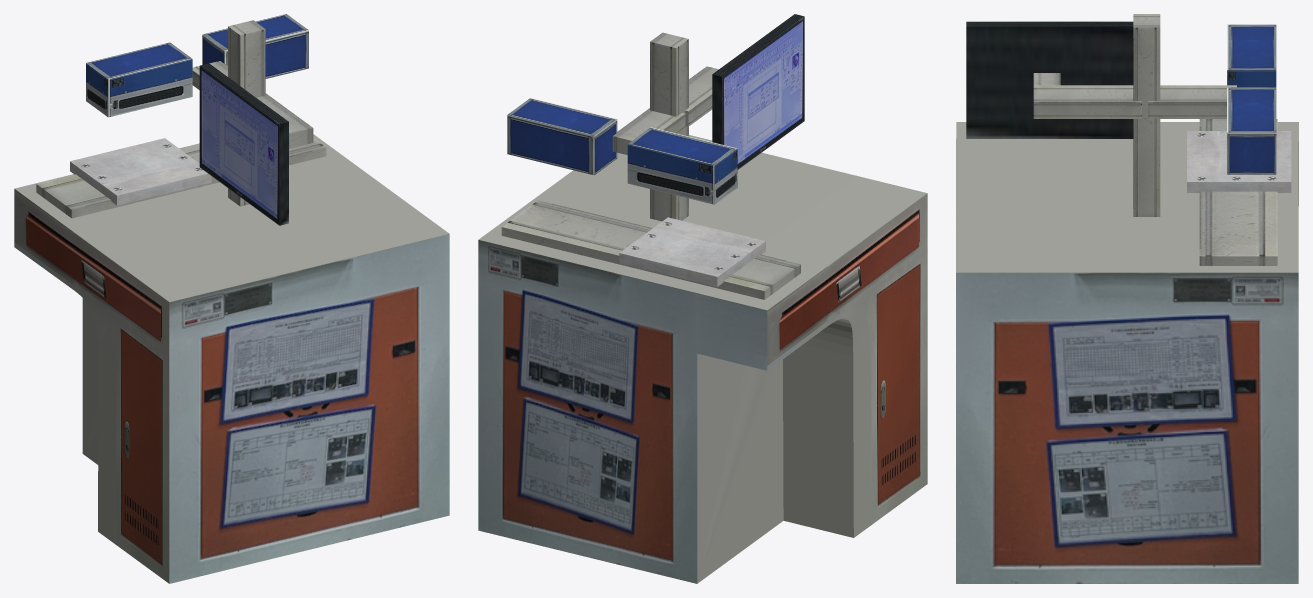
Rendered from 组装线_B1_机器11.fbx.
The picture shows the model from 3 angles, left to right: view 1: azimuth 30°, elevation 25°; view 2: azimuth 150°, elevation 25°; view 3: azimuth 270°, elevation 25°; orthographic projection. The views are drawn at different scales.
Parts seen in each view (by area): view 1: 对象001; view 2: 对象001; view 3: 对象001.
Boxes of the visible parts, x1,y1,x2,y2 form: 对象001: (14, 14, 449, 583); 对象001: (478, 14, 927, 583); 对象001: (956, 14, 1298, 583).
Size of the model in its own units: 51.53 by 79.64 by 49.44.
